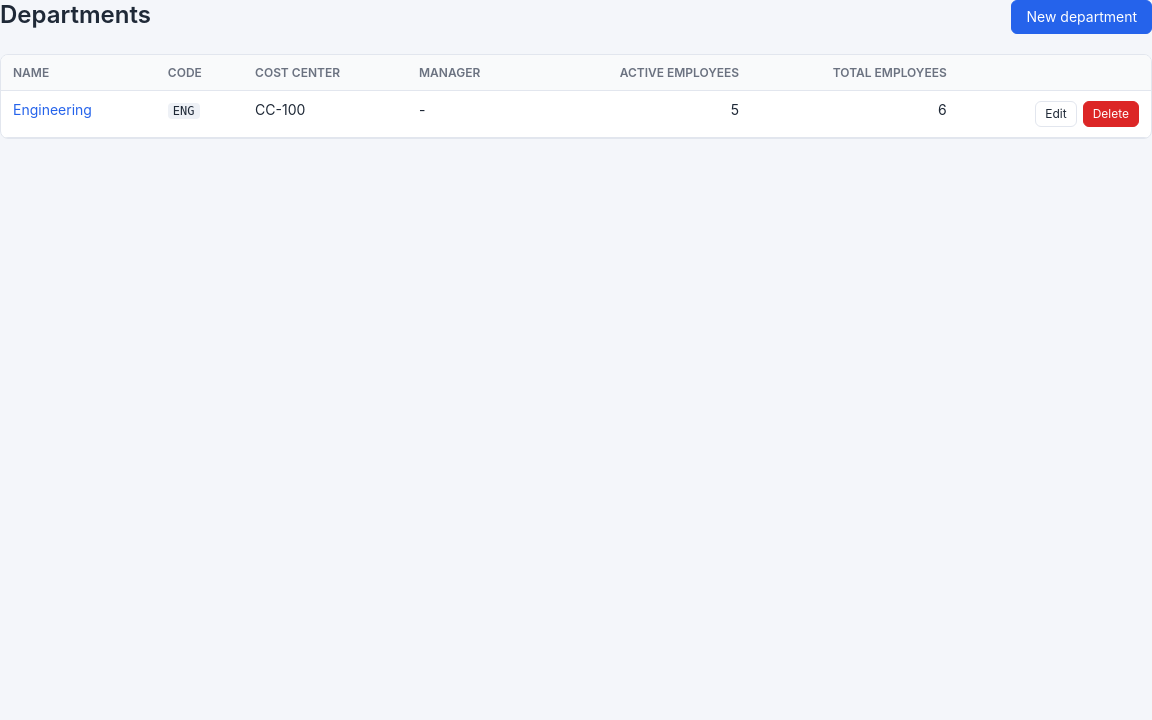
DepartmentsPage › shows the server error when a department still has active employees
Step 1. Click the button "Delete" → (1111, 114), box [1083,101,1139,127]
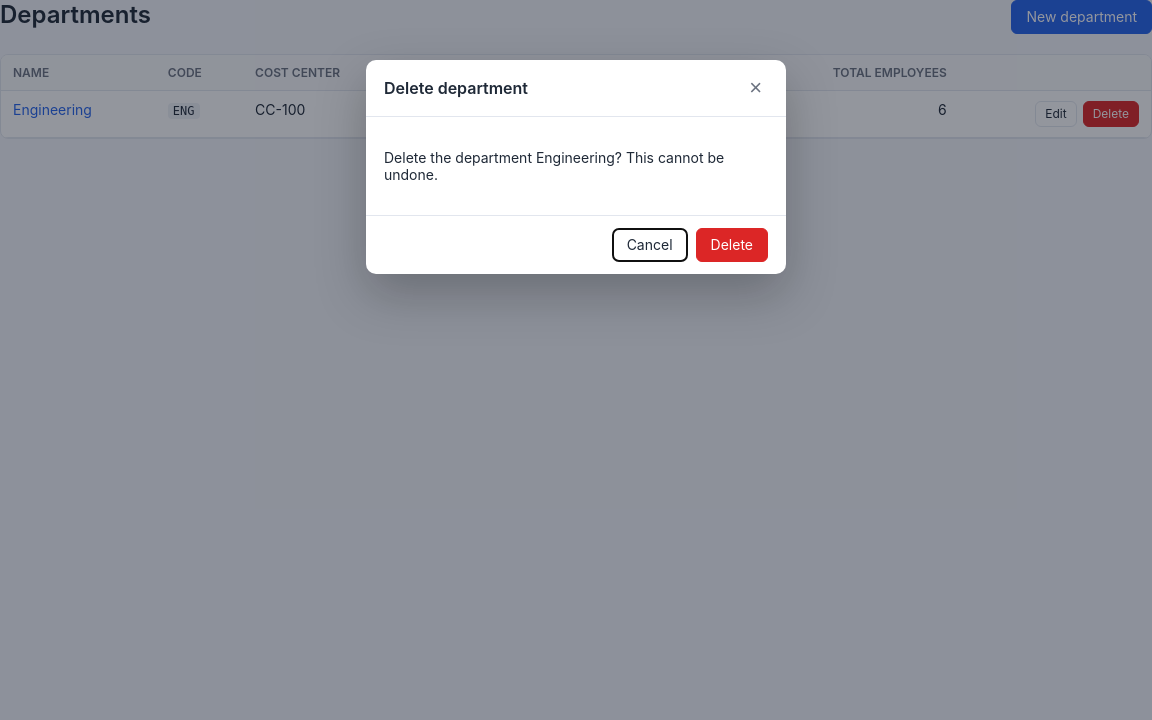
Step 2. Click the button "Delete" → (732, 245), box [696,228,768,262]
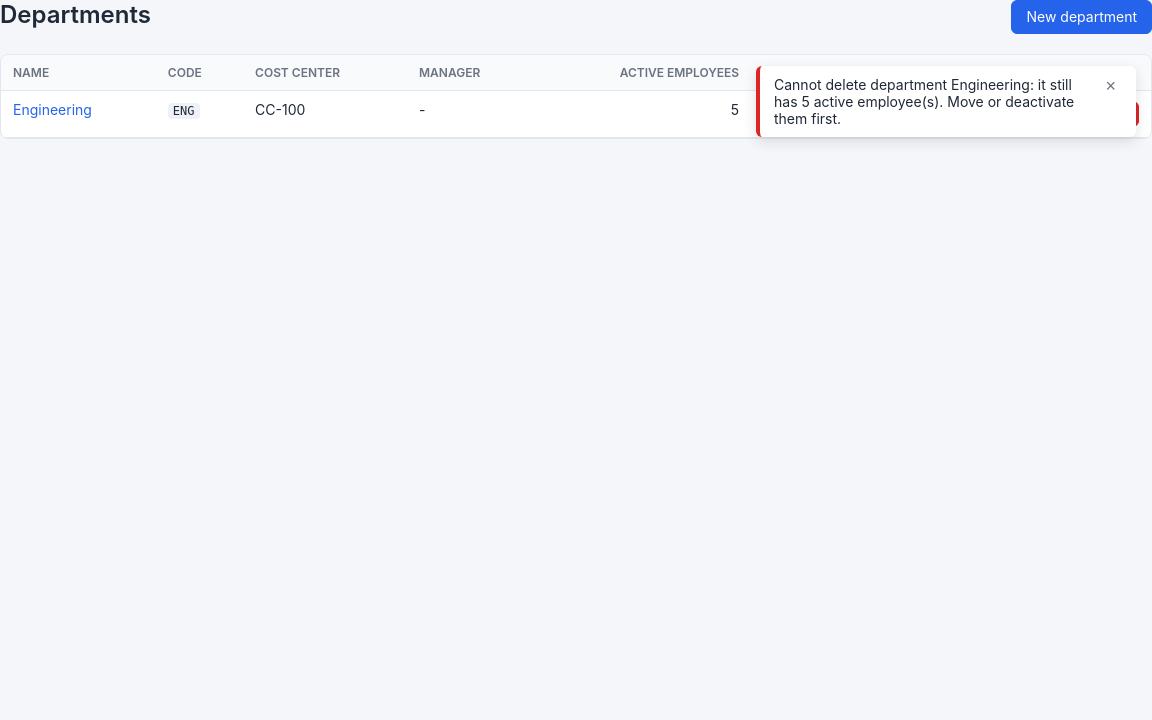
Expected: the message shows "still has 5 active employee(s)", [774,76,1074,127]
